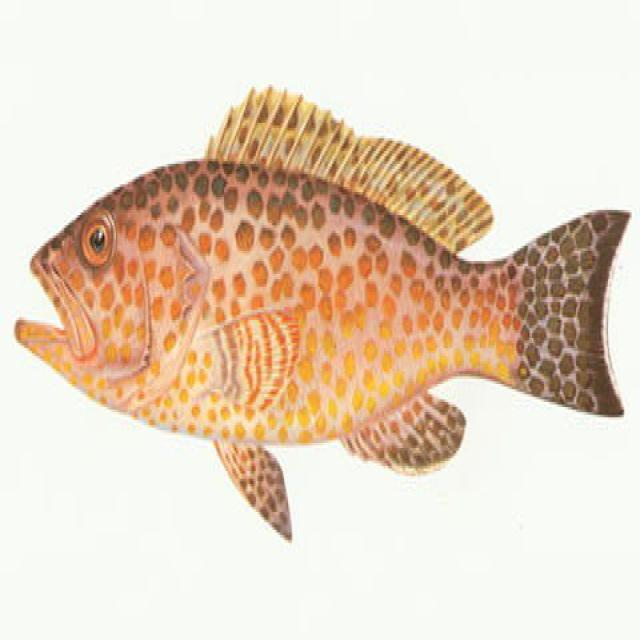ikan: (15, 63, 630, 566)
